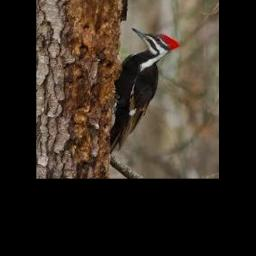Woodpecker: (109, 28, 179, 153)
